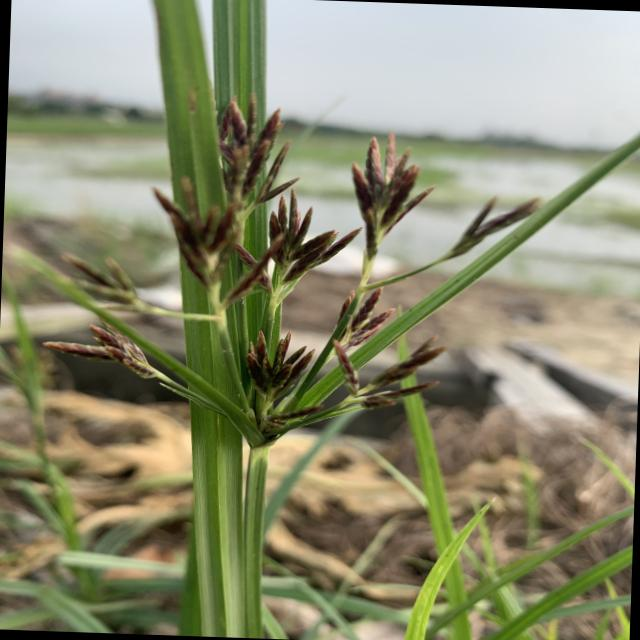cyperus: (26, 84, 552, 464)
